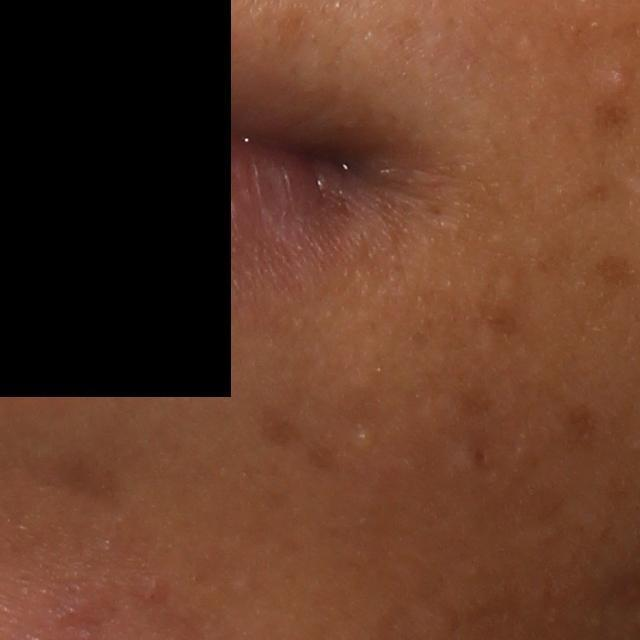comedo: (355, 421, 375, 450)
